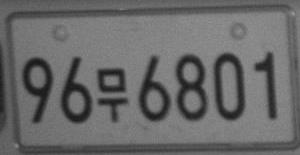0: (212, 51, 246, 120)
1: (252, 51, 286, 118)
6: (60, 56, 93, 123), (137, 54, 170, 121)
8: (175, 53, 208, 120)
9: (21, 56, 53, 123)
무: (96, 67, 129, 121)
